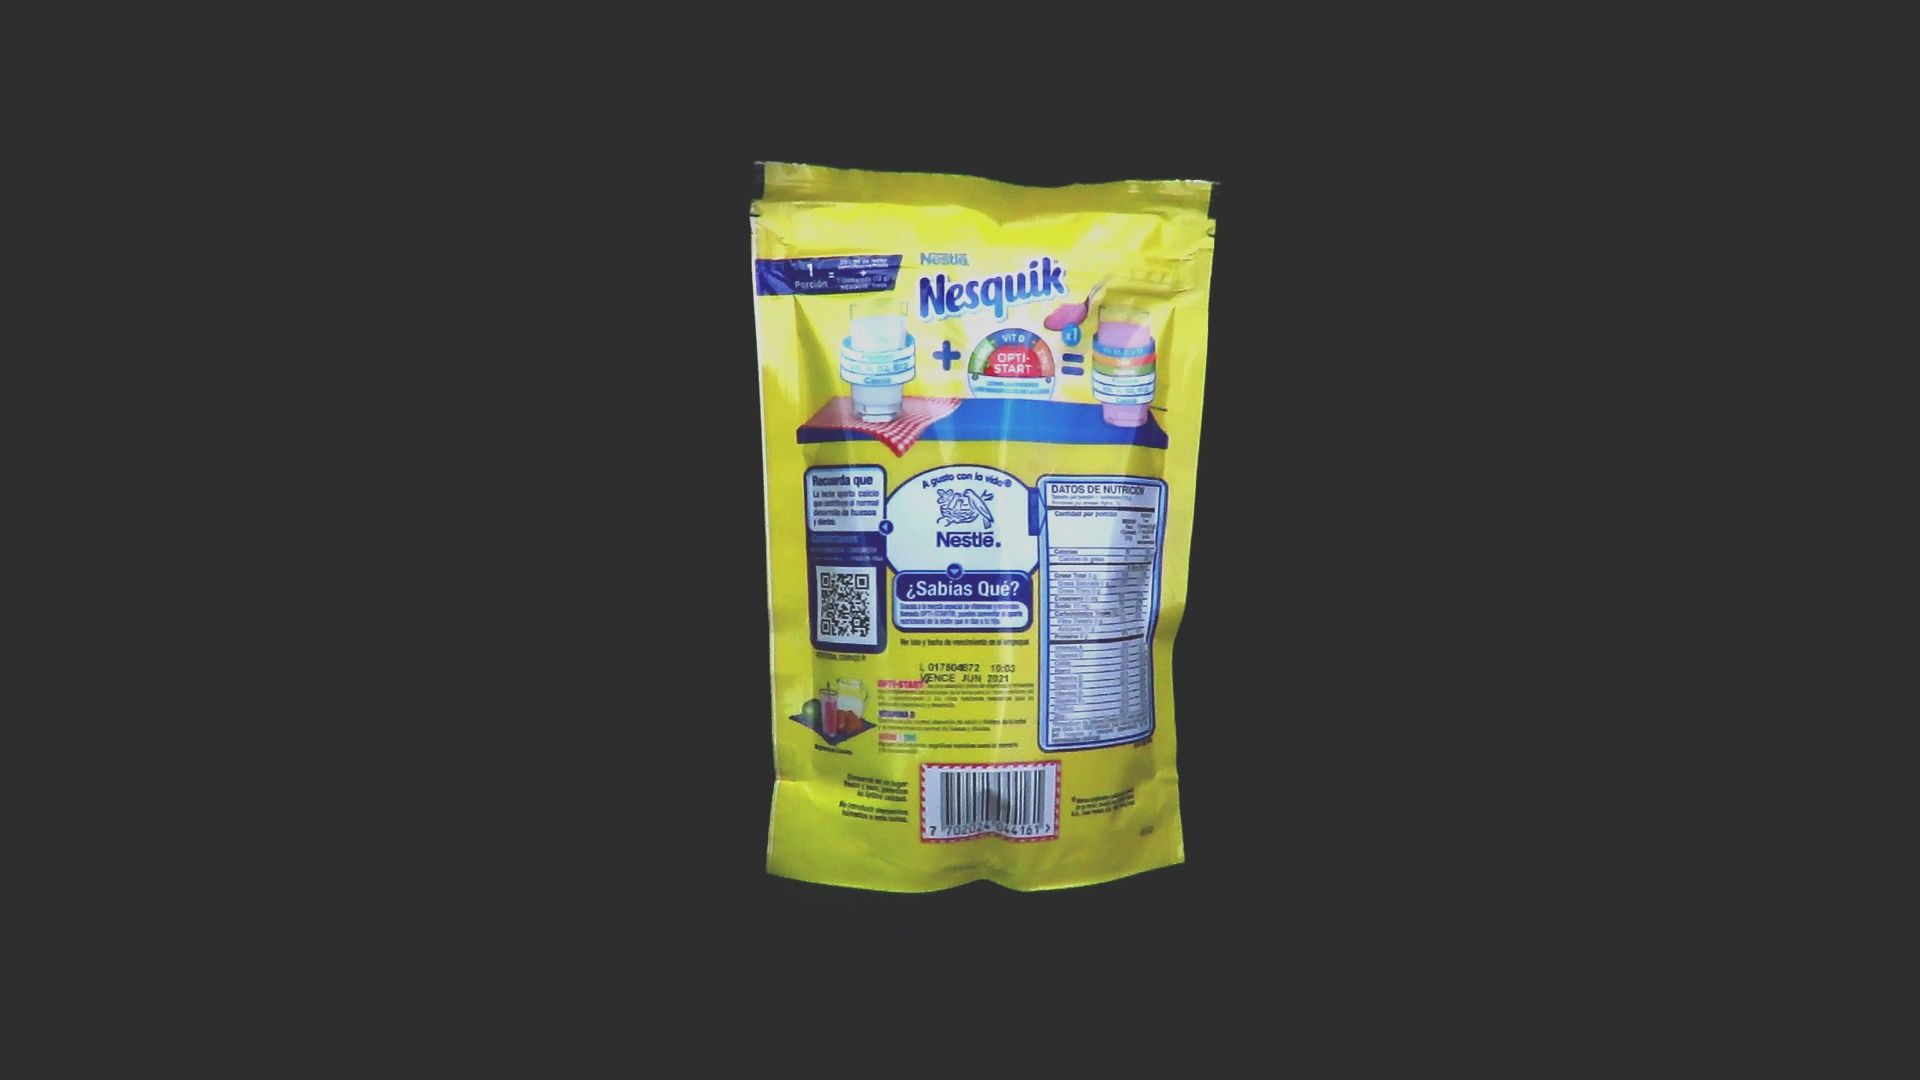COL0170305DYP20000: (744, 156, 1226, 899)
